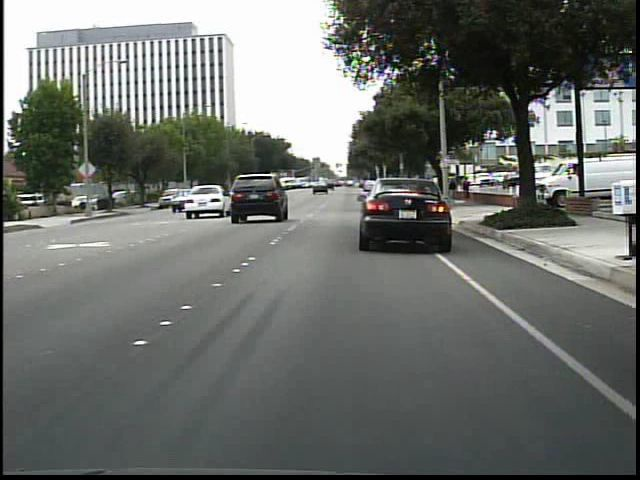person: (461, 175, 472, 205), (446, 177, 458, 202)
